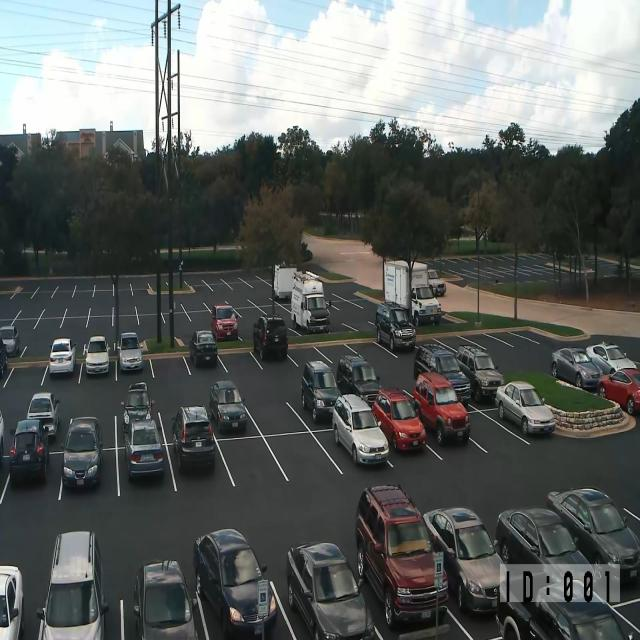car: (355, 484, 449, 630), (496, 570, 638, 639), (494, 507, 594, 603), (194, 527, 278, 639), (422, 506, 507, 616), (546, 486, 640, 584), (286, 541, 375, 639), (36, 530, 109, 639), (133, 559, 198, 639), (528, 598, 632, 640), (413, 371, 471, 446), (332, 393, 389, 466), (413, 343, 471, 408), (372, 388, 426, 452), (495, 380, 556, 436), (60, 416, 103, 490), (172, 405, 216, 472), (456, 344, 504, 403), (301, 360, 342, 423), (9, 418, 49, 482), (336, 353, 382, 408), (124, 417, 164, 480), (550, 347, 603, 391), (597, 367, 640, 415), (375, 301, 416, 351), (210, 380, 248, 432), (0, 564, 24, 640), (586, 340, 637, 374), (121, 381, 154, 433), (252, 314, 288, 360), (26, 392, 60, 439), (413, 342, 455, 379), (411, 284, 442, 326), (189, 329, 218, 367), (116, 332, 143, 372), (83, 335, 110, 375), (49, 337, 76, 375), (211, 303, 238, 341), (0, 324, 19, 356), (427, 269, 446, 297), (0, 337, 8, 379), (0, 408, 4, 467)
